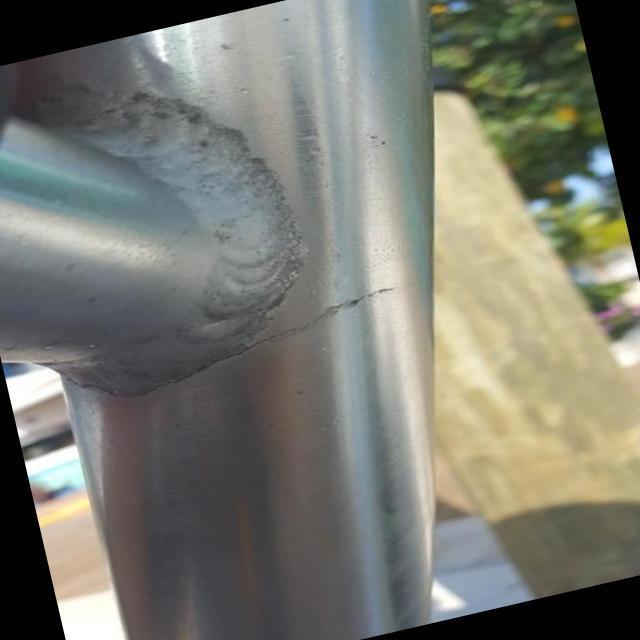defect: (56, 281, 407, 402)
